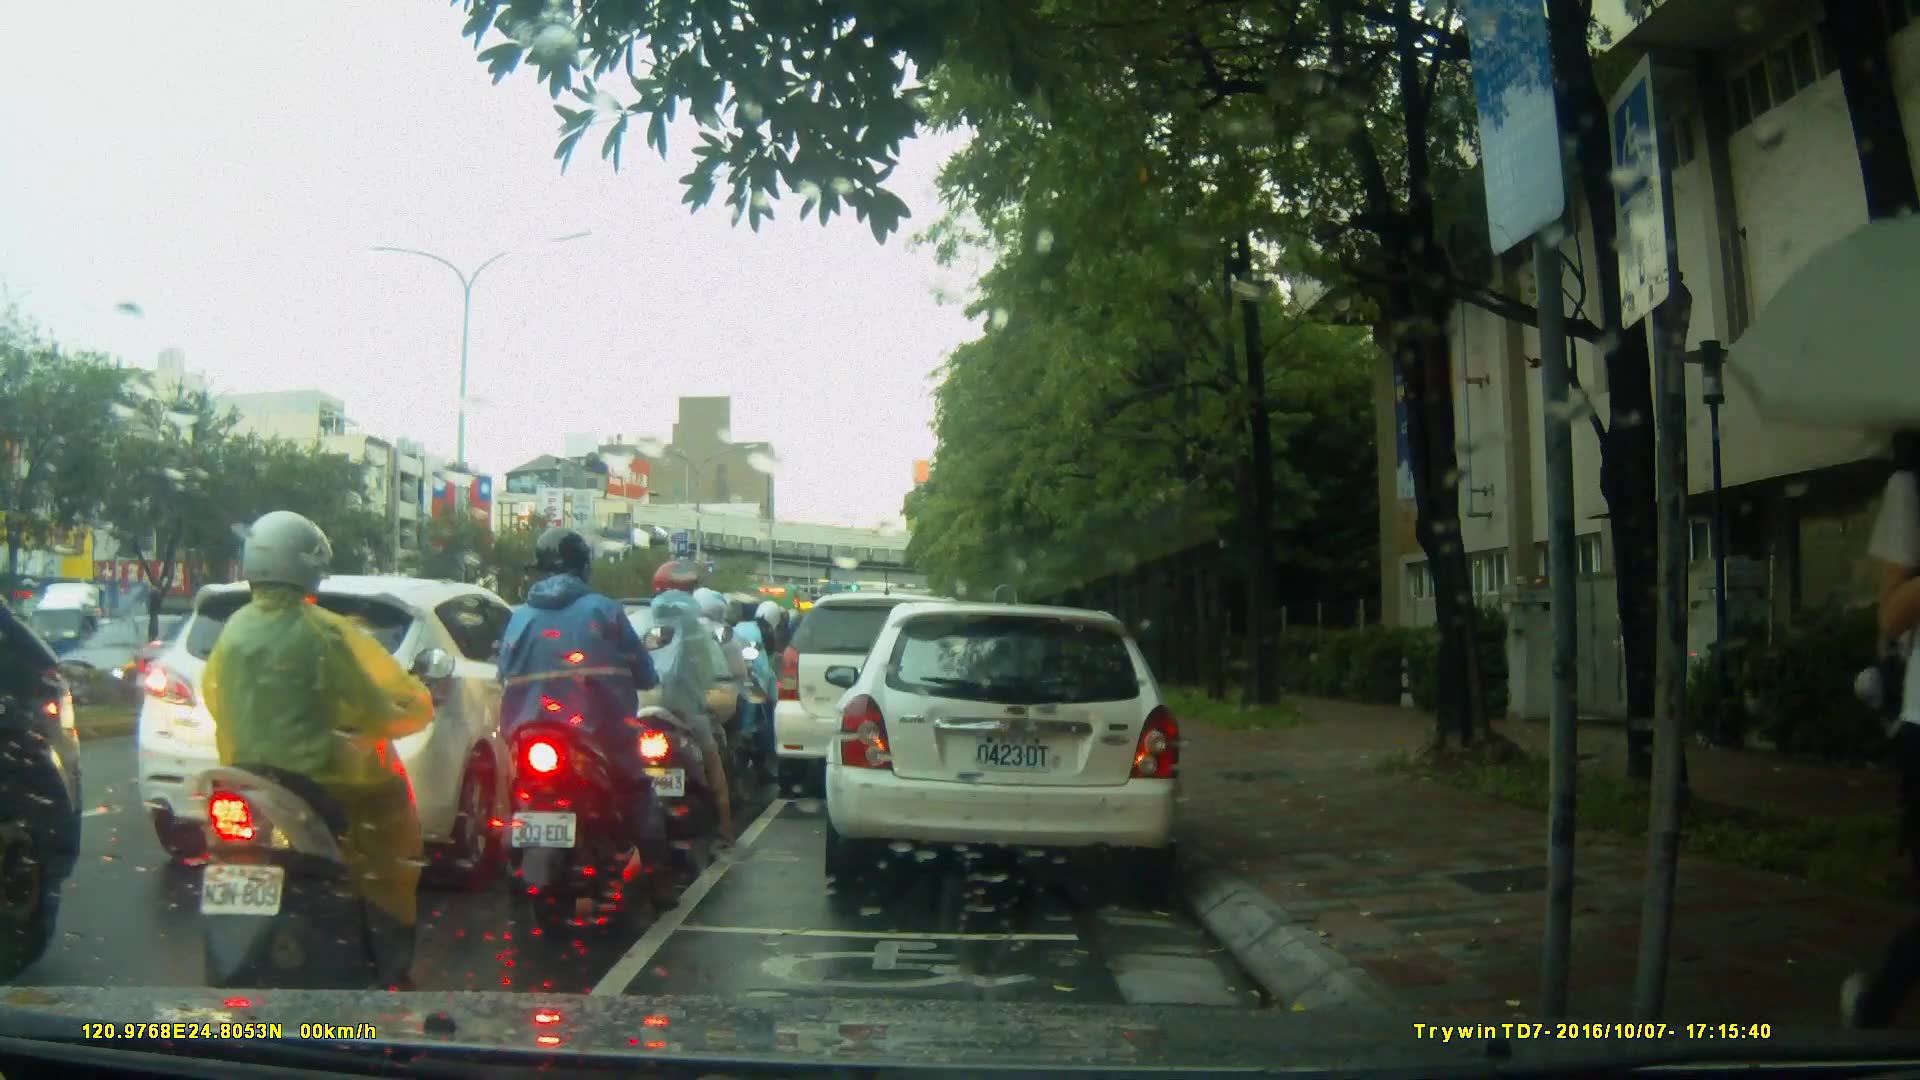pedestrian: (1853, 399, 1917, 1030)
rider: (183, 505, 457, 1020), (494, 525, 682, 922), (602, 560, 738, 852), (644, 581, 763, 823), (721, 594, 788, 766)
vehicle: (137, 572, 590, 878), (822, 604, 1188, 883), (774, 595, 995, 802), (42, 610, 269, 715), (20, 576, 199, 697)
